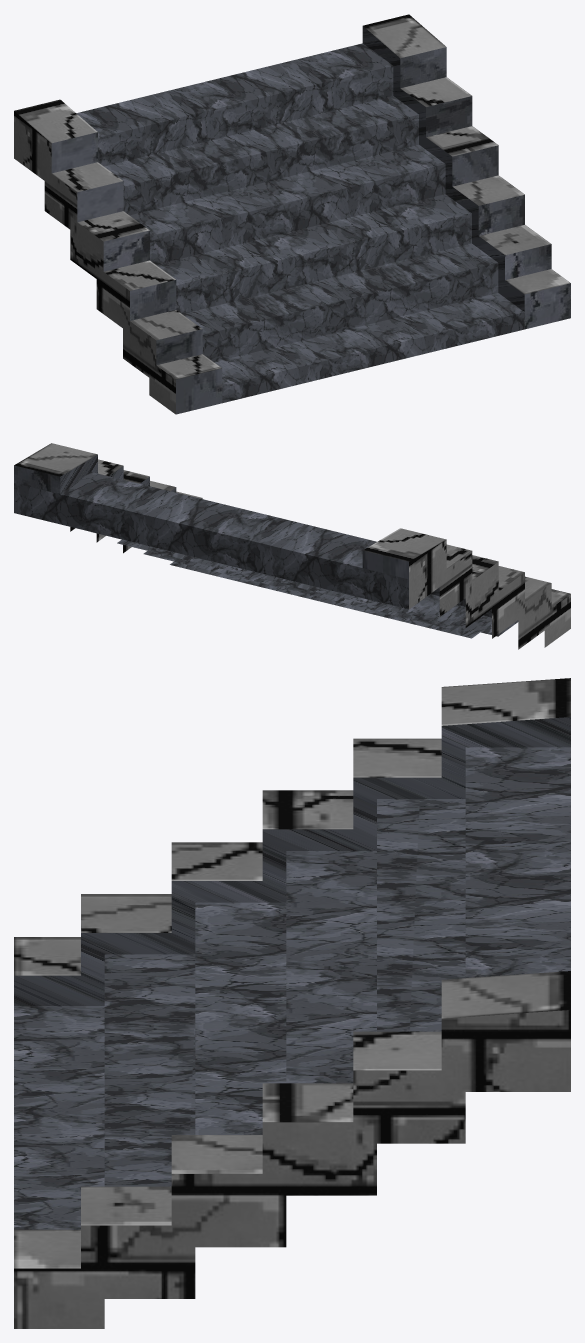
The model's file is SM_Modular_Road_04.fbx.
3 renders of one model, top to bottom at view 1: azimuth 30°, elevation 25°; view 2: azimuth 150°, elevation 25°; view 3: azimuth 270°, elevation 25°, orthographic. The views are drawn at different scales.
Visible parts, largest first — view 1: SM_Modular_Road_04; view 2: SM_Modular_Road_04; view 3: SM_Modular_Road_04.
Boxes of the visible parts, bbox=[...] form: SM_Modular_Road_04: bbox=[14, 14, 570, 414]; SM_Modular_Road_04: bbox=[14, 443, 570, 649]; SM_Modular_Road_04: bbox=[14, 678, 570, 1328].
Bounding box in the file's own units: 261 × 117 × 185.
Materials: 2 (2 with a texture image).
